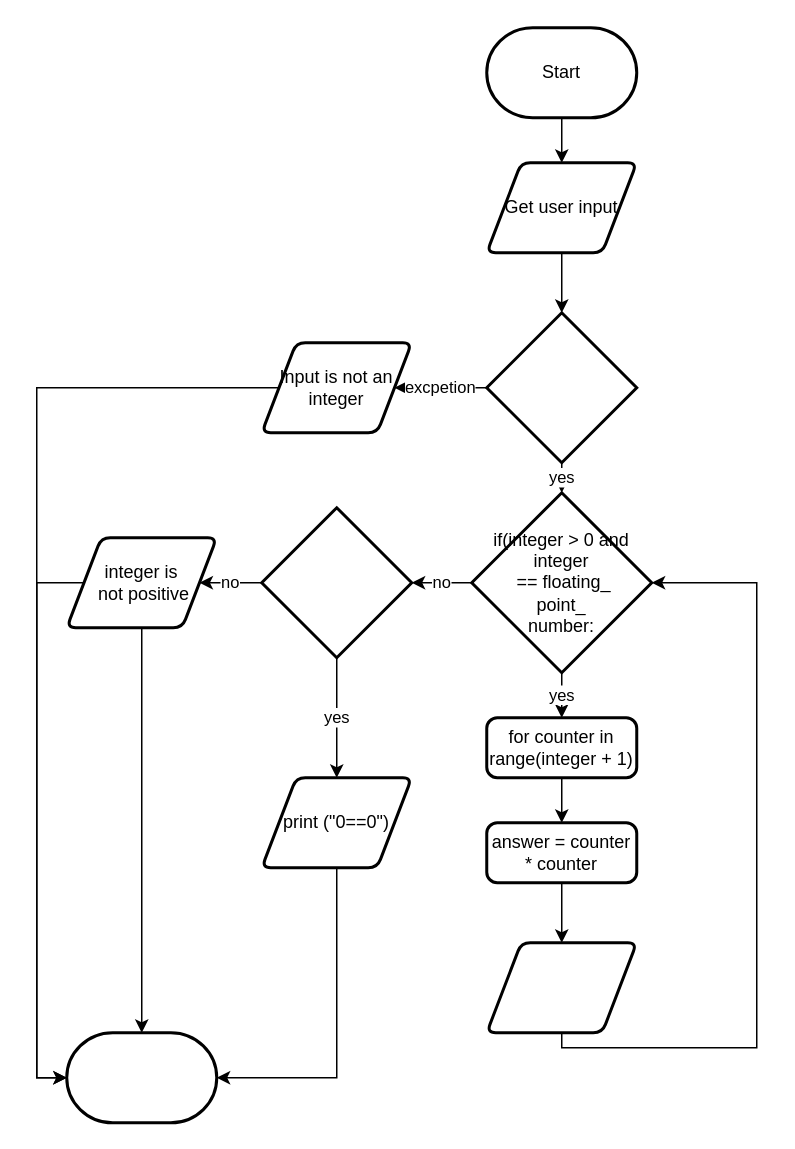
Image size: 795x1149. Some labels were removed from this diagram. The centre of each missing label's shape, as x and y in pixels:
elif integer == 0: point (336, 582)
print ("{0} ^2 = {1}"): point (561, 987)
Stop: point (141, 1077)
Try: point (561, 387)
